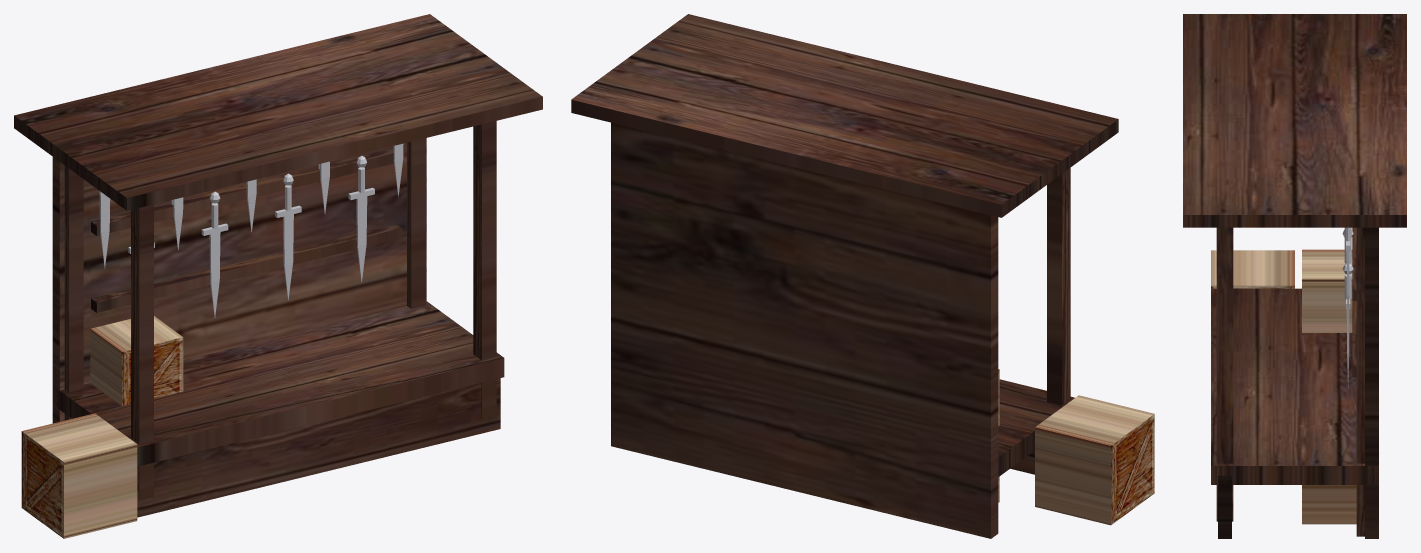
Rendered from weapon stall.glb.
3 views of the same model, side by side, from view 1: azimuth 30°, elevation 25°; view 2: azimuth 150°, elevation 25°; view 3: azimuth 270°, elevation 25° (orthographic). The views are drawn at different scales.
Visible parts, largest first — view 1: Stall_Roof-col, Stall_BackWall-col, Stall_Counter-col, Stall_FrontPanel-col, Crate_Display-col, Stall_Post_1-col, Stall_Post_0-col, Crate_2-col, Stall_Post_2-col, WeaponRack_1.2-col, WeaponRack_1.8-col, Stall_Post_3-col (+3 smaller); view 2: Stall_BackWall-col, Stall_Roof-col, Crate_Display-col, Stall_Counter-col, Stall_Post_0-col; view 3: Stall_Roof-col, Stall_Counter-col, Stall_Post_1-col, Stall_BackWall-col, Crate_2-col, Crate_Display-col, Stall_Post_3-col, Crate_1-col, Stall_FrontPanel-col, Sword_8, WeaponRack_1.2-col, Sword_4 (+1 smaller).
Boxes of the visible parts, bbox=[...] form: Stall_Roof-col: bbox=[14, 14, 542, 210]; Stall_BackWall-col: bbox=[52, 138, 426, 423]; Stall_Counter-col: bbox=[53, 301, 504, 466]; Stall_FrontPanel-col: bbox=[137, 378, 500, 517]; Crate_Display-col: bbox=[21, 413, 137, 538]; Stall_Post_1-col: bbox=[473, 121, 496, 418]; Stall_Post_0-col: bbox=[131, 204, 153, 500]; Crate_2-col: bbox=[90, 316, 183, 406]; Stall_Post_2-col: bbox=[64, 165, 83, 420]; WeaponRack_1.2-col: bbox=[91, 224, 402, 312]; WeaponRack_1.8-col: bbox=[91, 148, 393, 235]; Stall_Post_3-col: bbox=[407, 138, 425, 308]; Stall_BackWall-col: bbox=[611, 122, 998, 538]; Stall_Roof-col: bbox=[571, 14, 1118, 217]; Crate_Display-col: bbox=[1035, 395, 1154, 525]; Stall_Counter-col: bbox=[611, 370, 1074, 481]; Stall_Post_0-col: bbox=[1047, 168, 1070, 405]; Stall_Roof-col: bbox=[1183, 14, 1406, 227]; Stall_Counter-col: bbox=[1211, 288, 1378, 484]; Stall_Post_1-col: bbox=[1216, 227, 1233, 521]; Stall_BackWall-col: bbox=[1365, 227, 1378, 538]; Crate_2-col: bbox=[1302, 249, 1352, 332]; Crate_Display-col: bbox=[1211, 250, 1294, 288]; Stall_Post_3-col: bbox=[1356, 227, 1364, 536]; Crate_1-col: bbox=[1302, 485, 1356, 524]; Stall_FrontPanel-col: bbox=[1218, 475, 1231, 538]; Sword_8: bbox=[1342, 263, 1353, 388]; WeaponRack_1.2-col: bbox=[1352, 301, 1356, 377]; Sword_4: bbox=[1344, 227, 1351, 329].
Bounding box in the file's own units: 3.8 × 2.65 × 1.6.
Materials: 3 (2 with a texture image).
